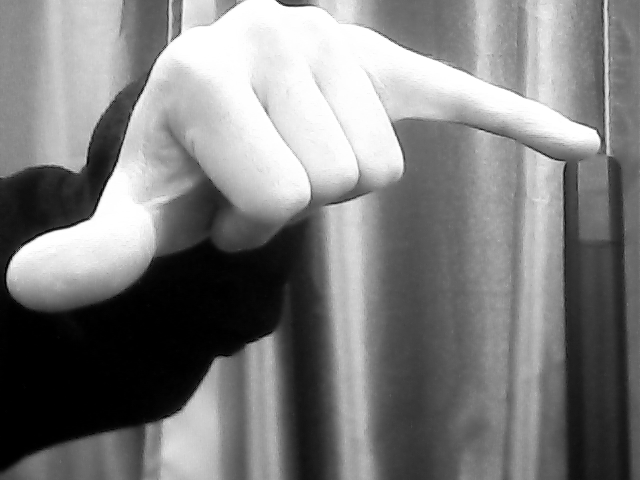aloha: (8, 1, 606, 320)
